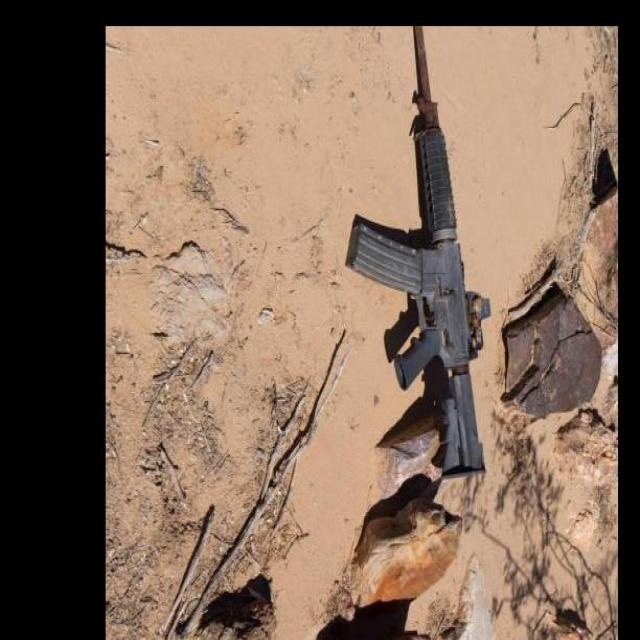heavy-weapon: (345, 26, 493, 480)
